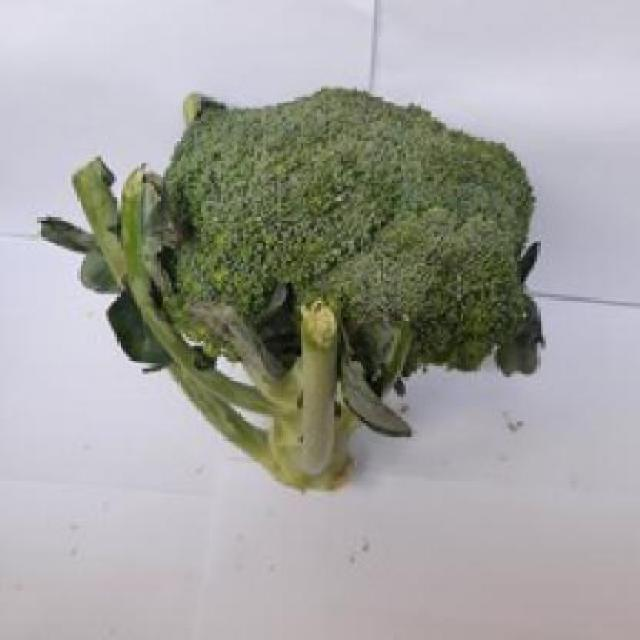broccoli: (68, 94, 554, 494)
